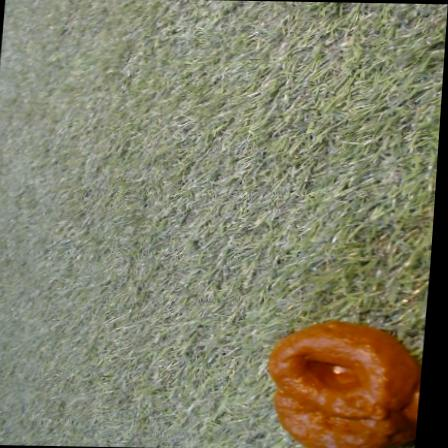dog-poop: (261, 318, 429, 448)
